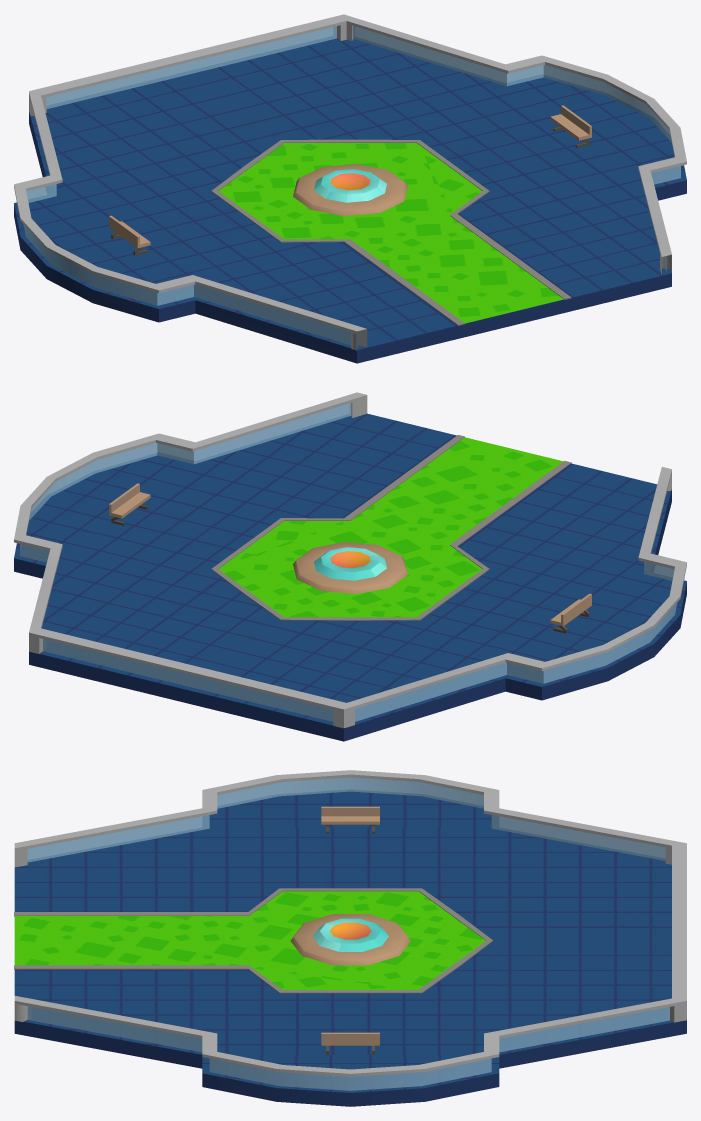
The model's file is santren1-eiffel.fbx.
3 views of the same model, one above another, from view 1: azimuth 30°, elevation 25°; view 2: azimuth 150°, elevation 25°; view 3: azimuth 270°, elevation 25° (orthographic). The views are drawn at different scales.
Parts seen in each view (by area): view 1: san tren; view 2: san tren; view 3: san tren.
Part boxes in pixels (x1=…): san tren: x1=14, y1=14, x2=686, y2=363; san tren: x1=14, y1=392, x2=686, y2=741; san tren: x1=14, y1=770, x2=686, y2=1106.
Bounding box in the file's own units: 2369 × 126 × 2218.
